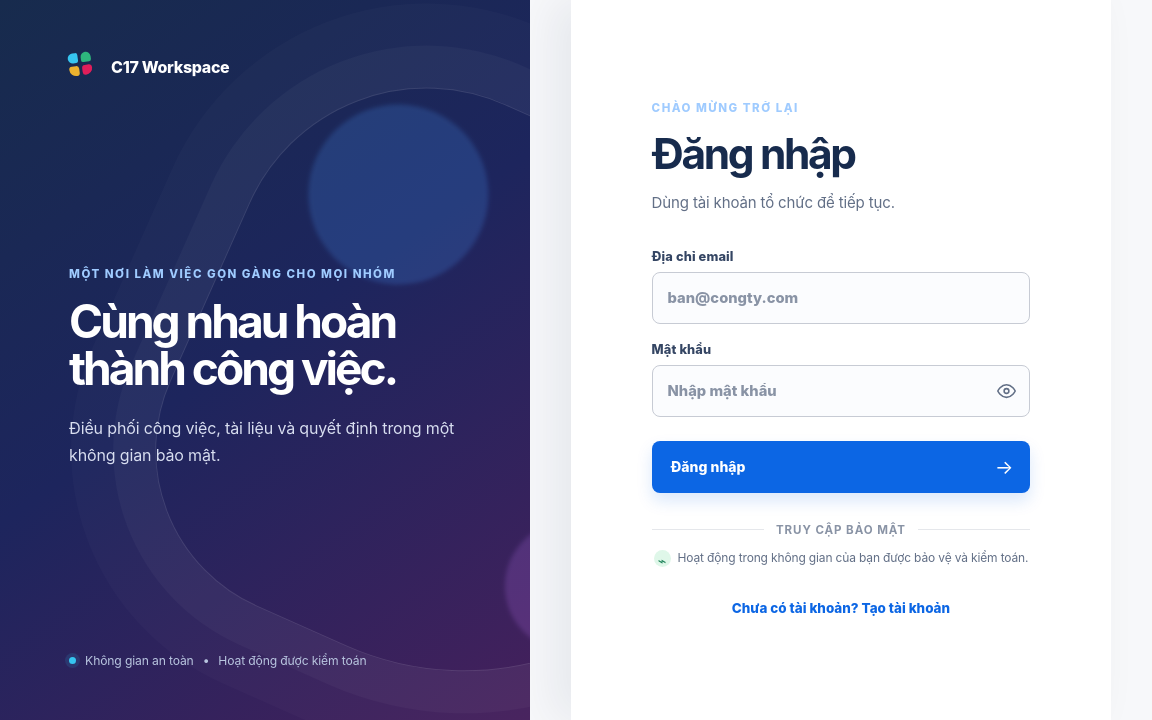
Test case: LoginForm › reports a locked account instead of claiming the session expired
Step 1. Type "person@example.test" into the field named "Email address" → (841, 298), box [652,272,1030,324]
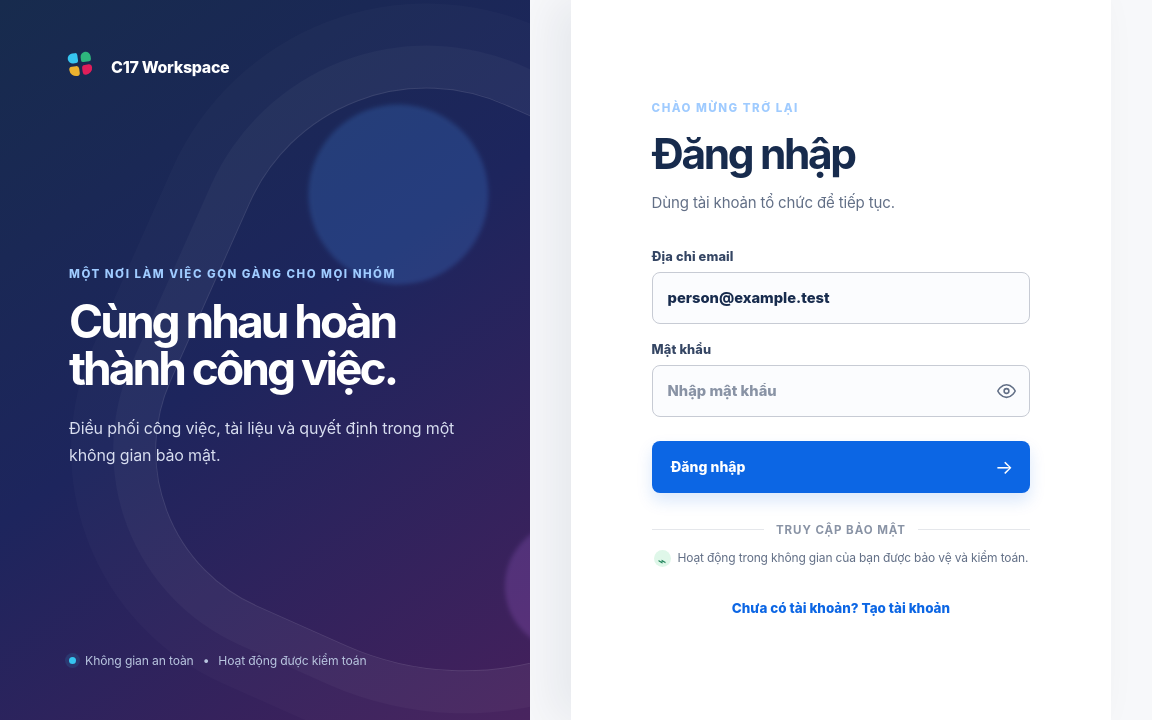
Step 2. Type "wrong" into the password field named "Password" → (841, 391), box [652,365,1030,417]
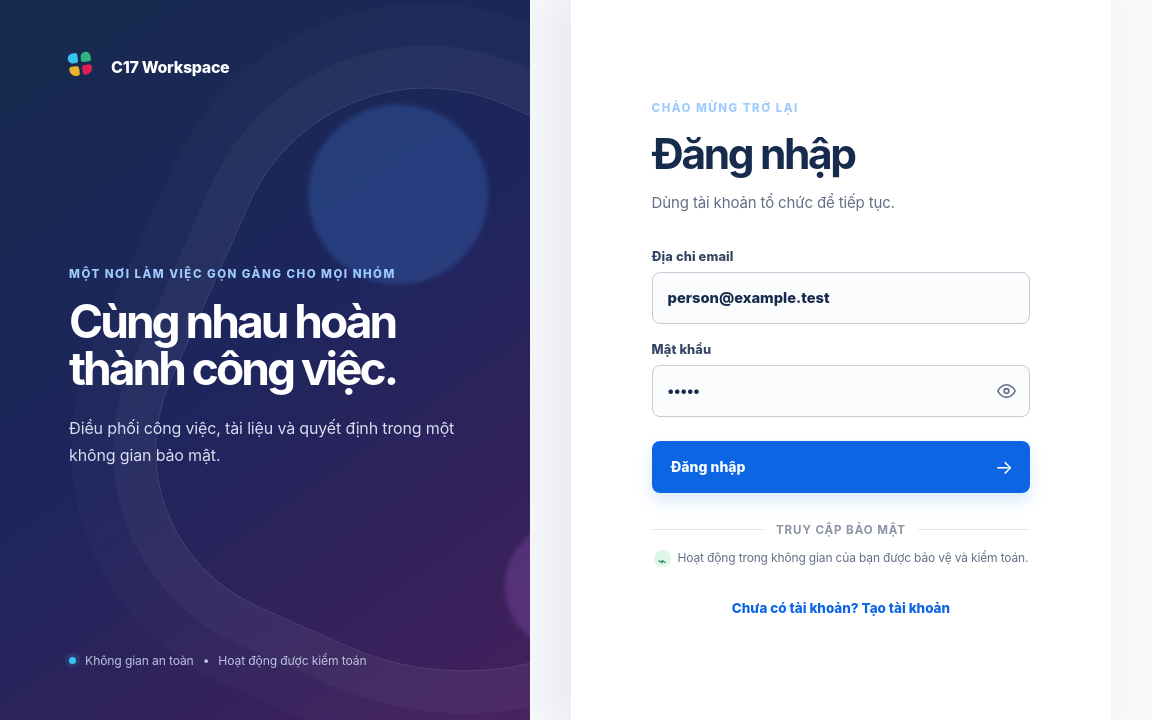
Step 3. Click the button with aria-label "Sign in" → click(708, 467), box [652,441,1030,493]
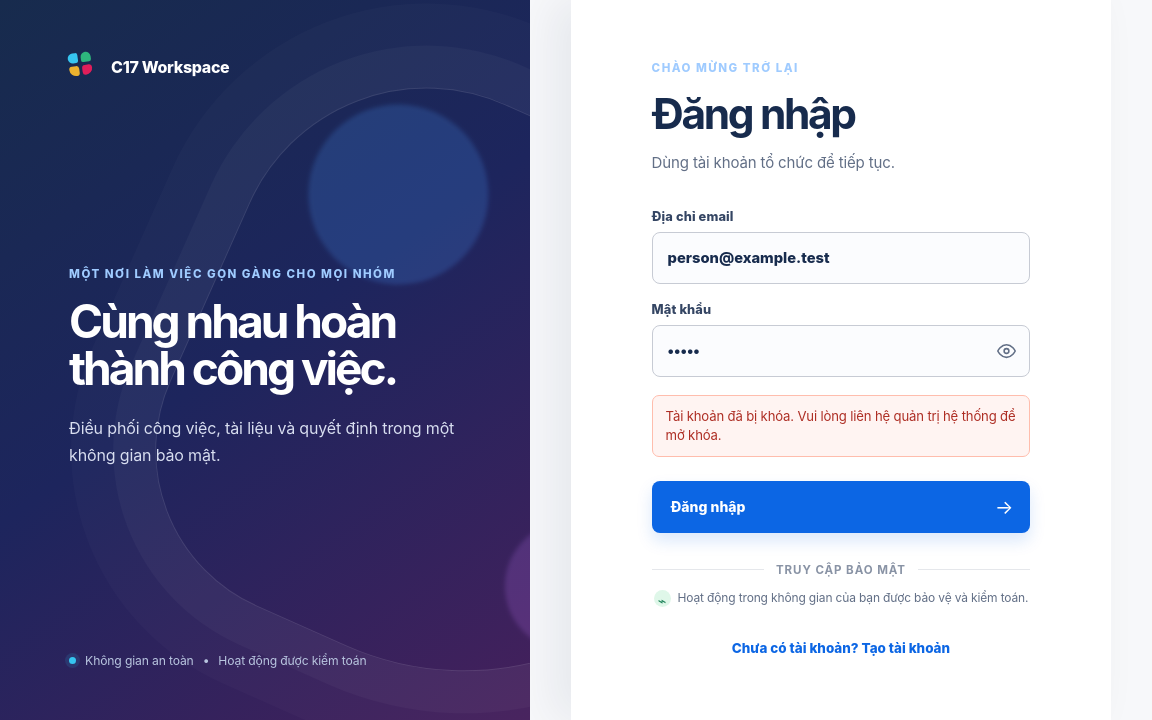
Check: the message shows "Tài khoản đã bị khóa", box [666,408,1016,443]
